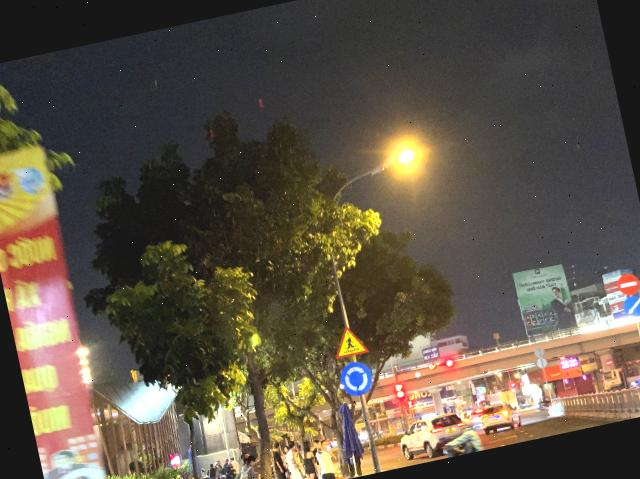cam-di-nguoc-chieu: (615, 271, 640, 298)
duong-nguoi-di-bo-cat-ngang: (330, 322, 370, 360)
huong-phai-di-vong-chuong-ngai-vat: (621, 293, 640, 319)
noi-giao-nhau-chay-theo-vong-xuyen: (336, 358, 376, 400)
